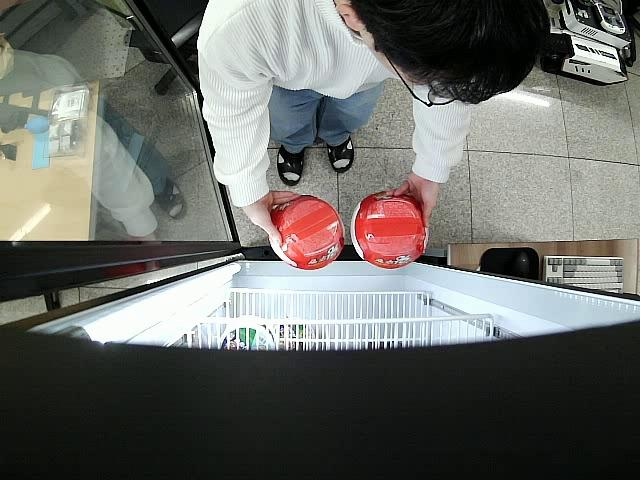00_hand: (249, 186, 299, 246), (394, 172, 440, 224)
10_wangTtukkeong: (354, 189, 429, 270), (272, 196, 344, 269)
